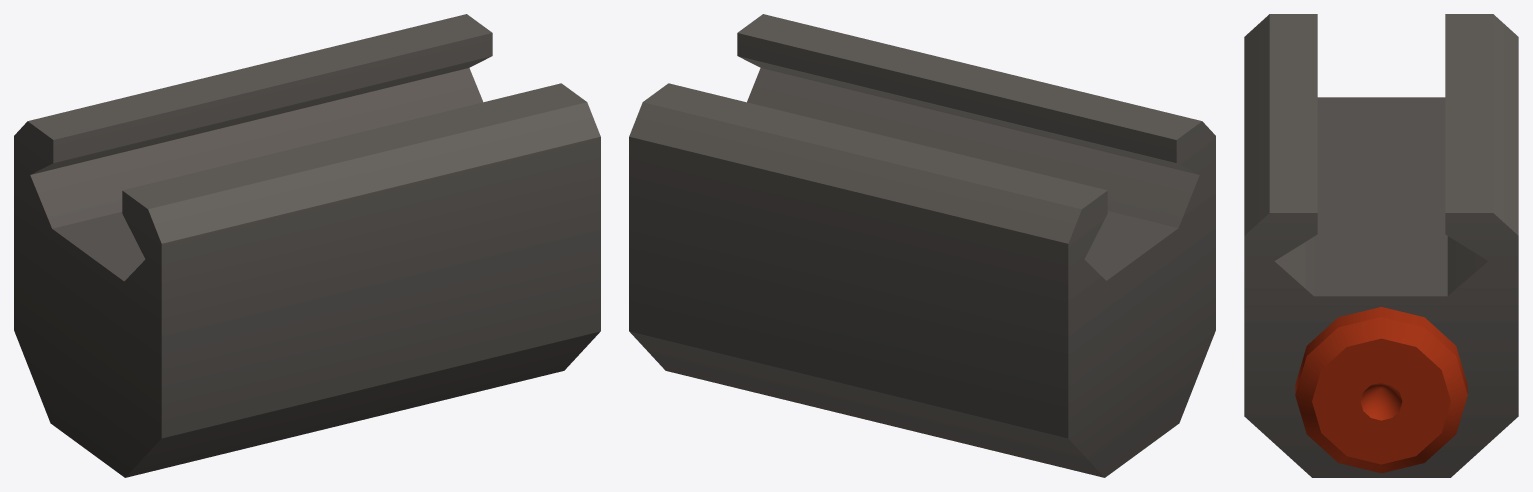
The model's file is Tactical_LaserAiming_03.fbx.
3 views of the same model, side by side, from view 1: azimuth 30°, elevation 25°; view 2: azimuth 150°, elevation 25°; view 3: azimuth 270°, elevation 25° (orthographic). The views are drawn at different scales.
Visible parts, largest first — view 1: Tactical_LaserAiming_03; view 2: Tactical_LaserAiming_03; view 3: Tactical_LaserAiming_03.
Boxes of the visible parts, x1,y1,x2,y2 form: Tactical_LaserAiming_03: (14,14,600,477); Tactical_LaserAiming_03: (629,14,1215,477); Tactical_LaserAiming_03: (1244,14,1518,477).
Size of the model in its own units: 6.2 by 3.55 by 3.33.
